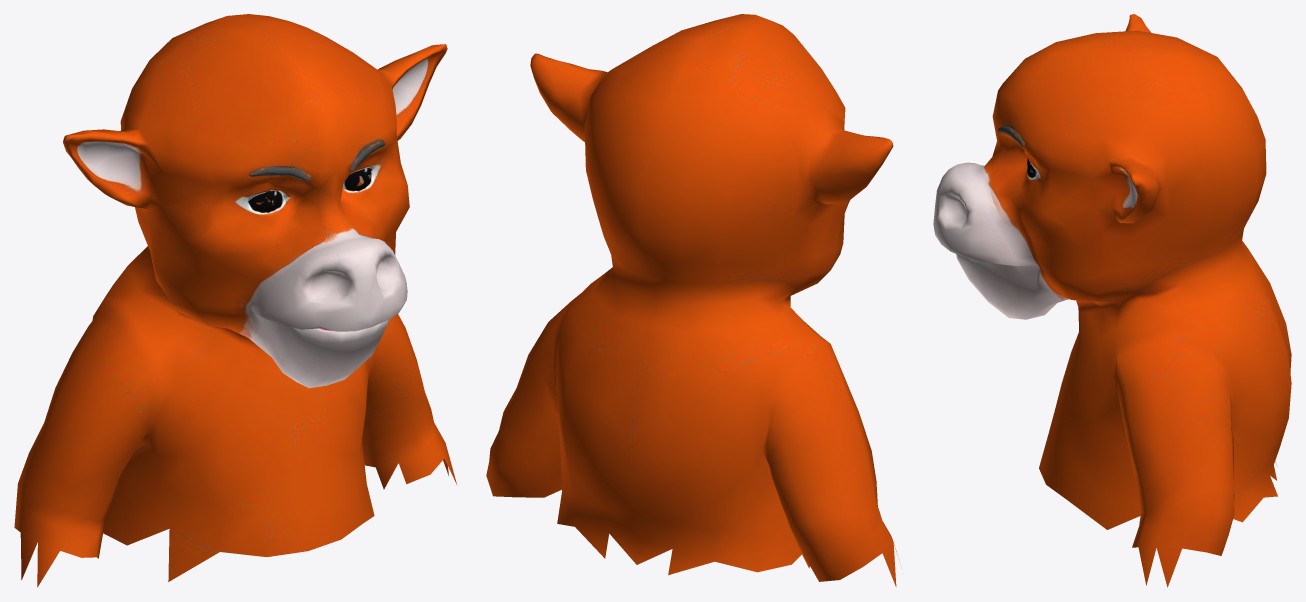
File: niulai.glb
3 views of the same model, side by side, from view 1: azimuth 30°, elevation 25°; view 2: azimuth 150°, elevation 25°; view 3: azimuth 270°, elevation 25° (orthographic). The views are drawn at different scales.
Visible parts, largest first — view 1: Head; view 2: Head; view 3: Head.
Part boxes in pixels (<box>): Head: <box>14,14,457,587</box>; Head: <box>486,14,897,586</box>; Head: <box>933,14,1291,587</box>.
Bounding box in the file's own units: 0.4746 × 0.5459 × 0.3896.
Materials: 1 (1 with a texture image).
